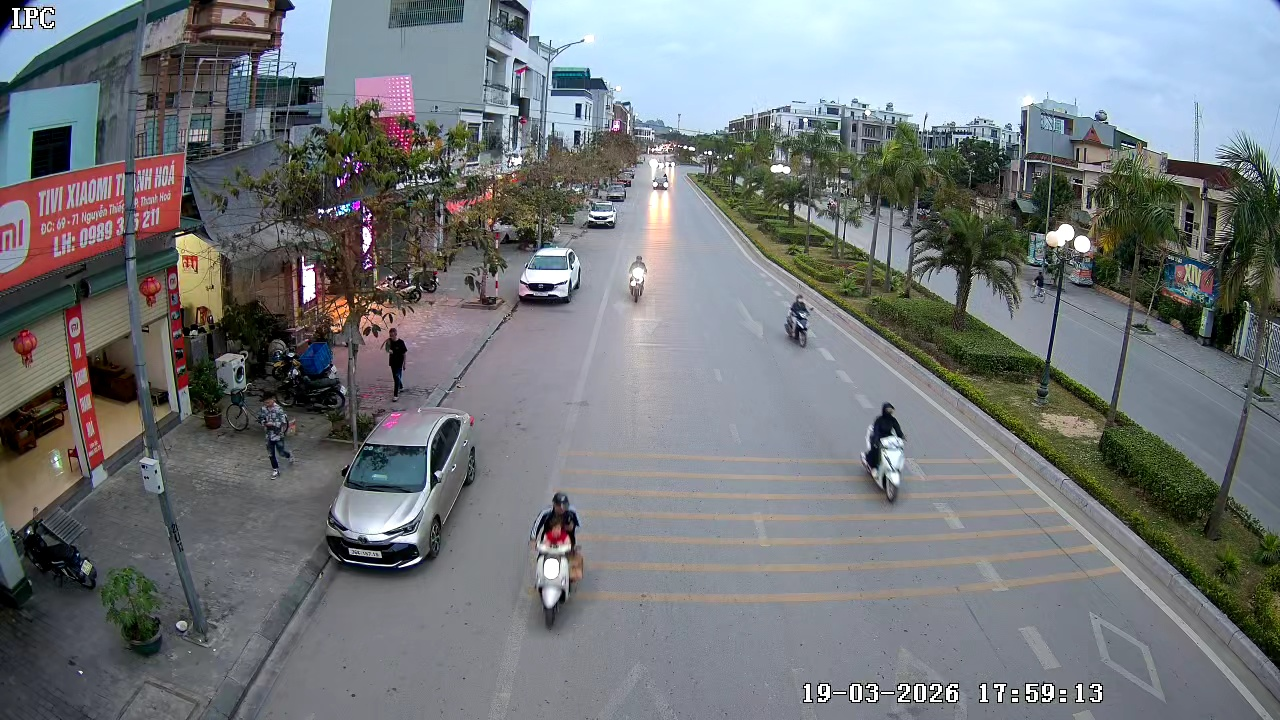car: (325, 405, 477, 571), (518, 246, 580, 304), (584, 196, 621, 228), (651, 178, 673, 193)
motorbike: (526, 489, 588, 629), (860, 400, 909, 504), (783, 294, 814, 348), (626, 255, 648, 304)
pedestrian: (382, 328, 410, 399)
